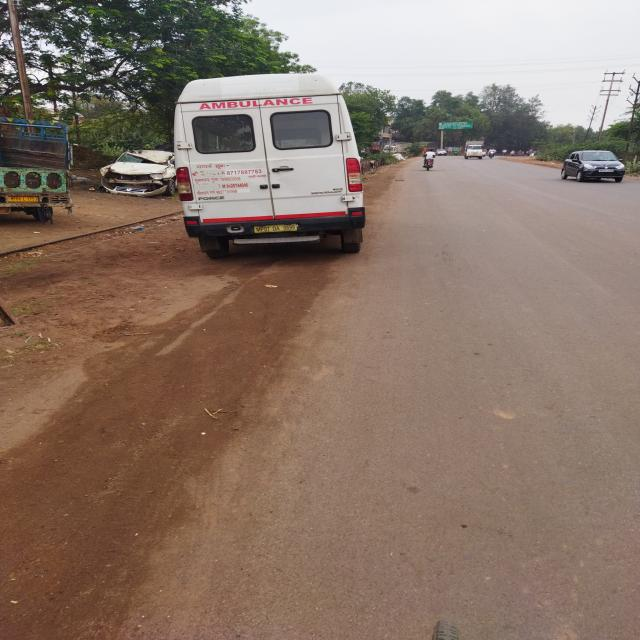Car: (562, 150, 625, 182)
Traveller: (175, 74, 365, 259)
Two Wheeler: (423, 159, 433, 170)
